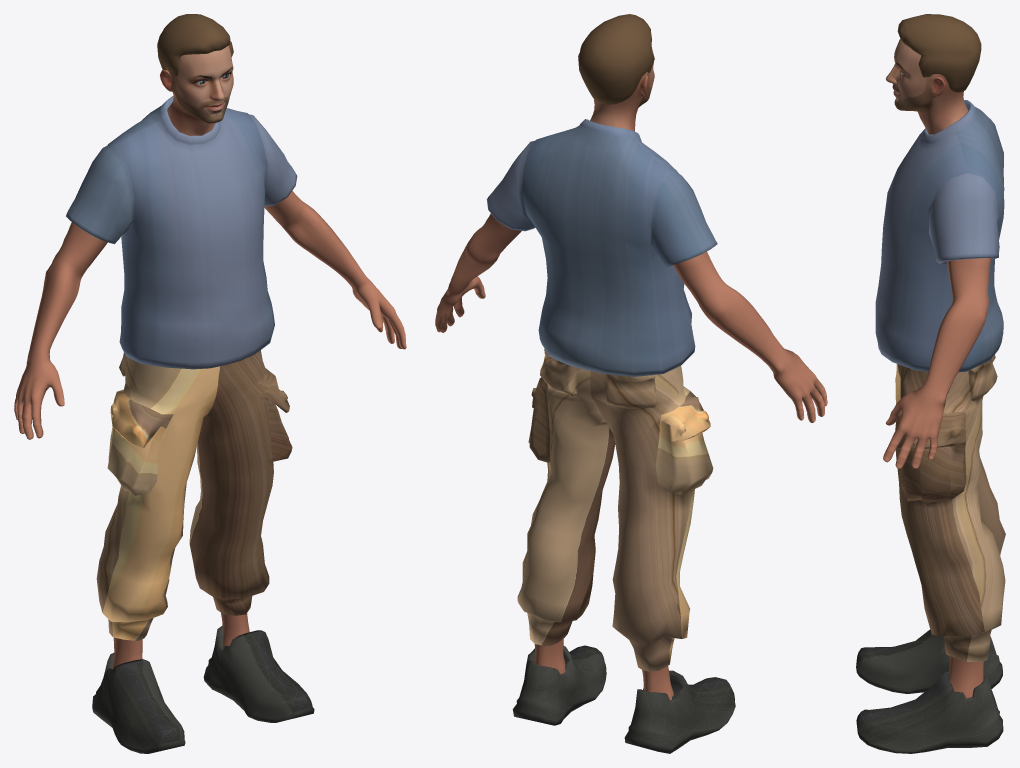
3 renders of one model, left to right at view 1: azimuth 30°, elevation 25°; view 2: azimuth 150°, elevation 25°; view 3: azimuth 270°, elevation 25°, orthographic.
Visible parts, largest first — view 1: Wolf3D_Outfit_Top, Wolf3D_Outfit_Bottom, Wolf3D_Body, Wolf3D_Outfit_Footwear, Wolf3D_Head, Wolf3D_Hair; view 2: Wolf3D_Outfit_Bottom, Wolf3D_Outfit_Top, Wolf3D_Body, Wolf3D_Outfit_Footwear, Wolf3D_Hair, Wolf3D_Head; view 3: Wolf3D_Outfit_Top, Wolf3D_Outfit_Bottom, Wolf3D_Outfit_Footwear, Wolf3D_Body, Wolf3D_Hair, Wolf3D_Head.
Boxes of the visible parts, <box> form: Wolf3D_Outfit_Top: <box>66,96,297,369</box>; Wolf3D_Outfit_Bottom: <box>96,350,292,640</box>; Wolf3D_Body: <box>14,191,406,669</box>; Wolf3D_Outfit_Footwear: <box>92,625,314,753</box>; Wolf3D_Head: <box>160,45,233,135</box>; Wolf3D_Hair: <box>157,14,233,76</box>; Wolf3D_Outfit_Bottom: <box>517,349,713,671</box>; Wolf3D_Outfit_Top: <box>486,119,717,376</box>; Wolf3D_Body: <box>435,213,827,700</box>; Wolf3D_Outfit_Footwear: <box>512,645,735,753</box>; Wolf3D_Hair: <box>578,14,654,104</box>; Wolf3D_Head: <box>590,48,654,131</box>; Wolf3D_Outfit_Top: <box>875,100,1004,372</box>; Wolf3D_Outfit_Bottom: <box>895,355,1005,661</box>; Wolf3D_Outfit_Footwear: <box>856,629,1003,753</box>; Wolf3D_Body: <box>883,258,990,698</box>; Wolf3D_Hair: <box>897,14,981,92</box>; Wolf3D_Head: <box>886,39,968,134</box>.
Bounding box in the file's own units: 1.06 × 1.86 × 0.364.
8 materials, 8 textured.
